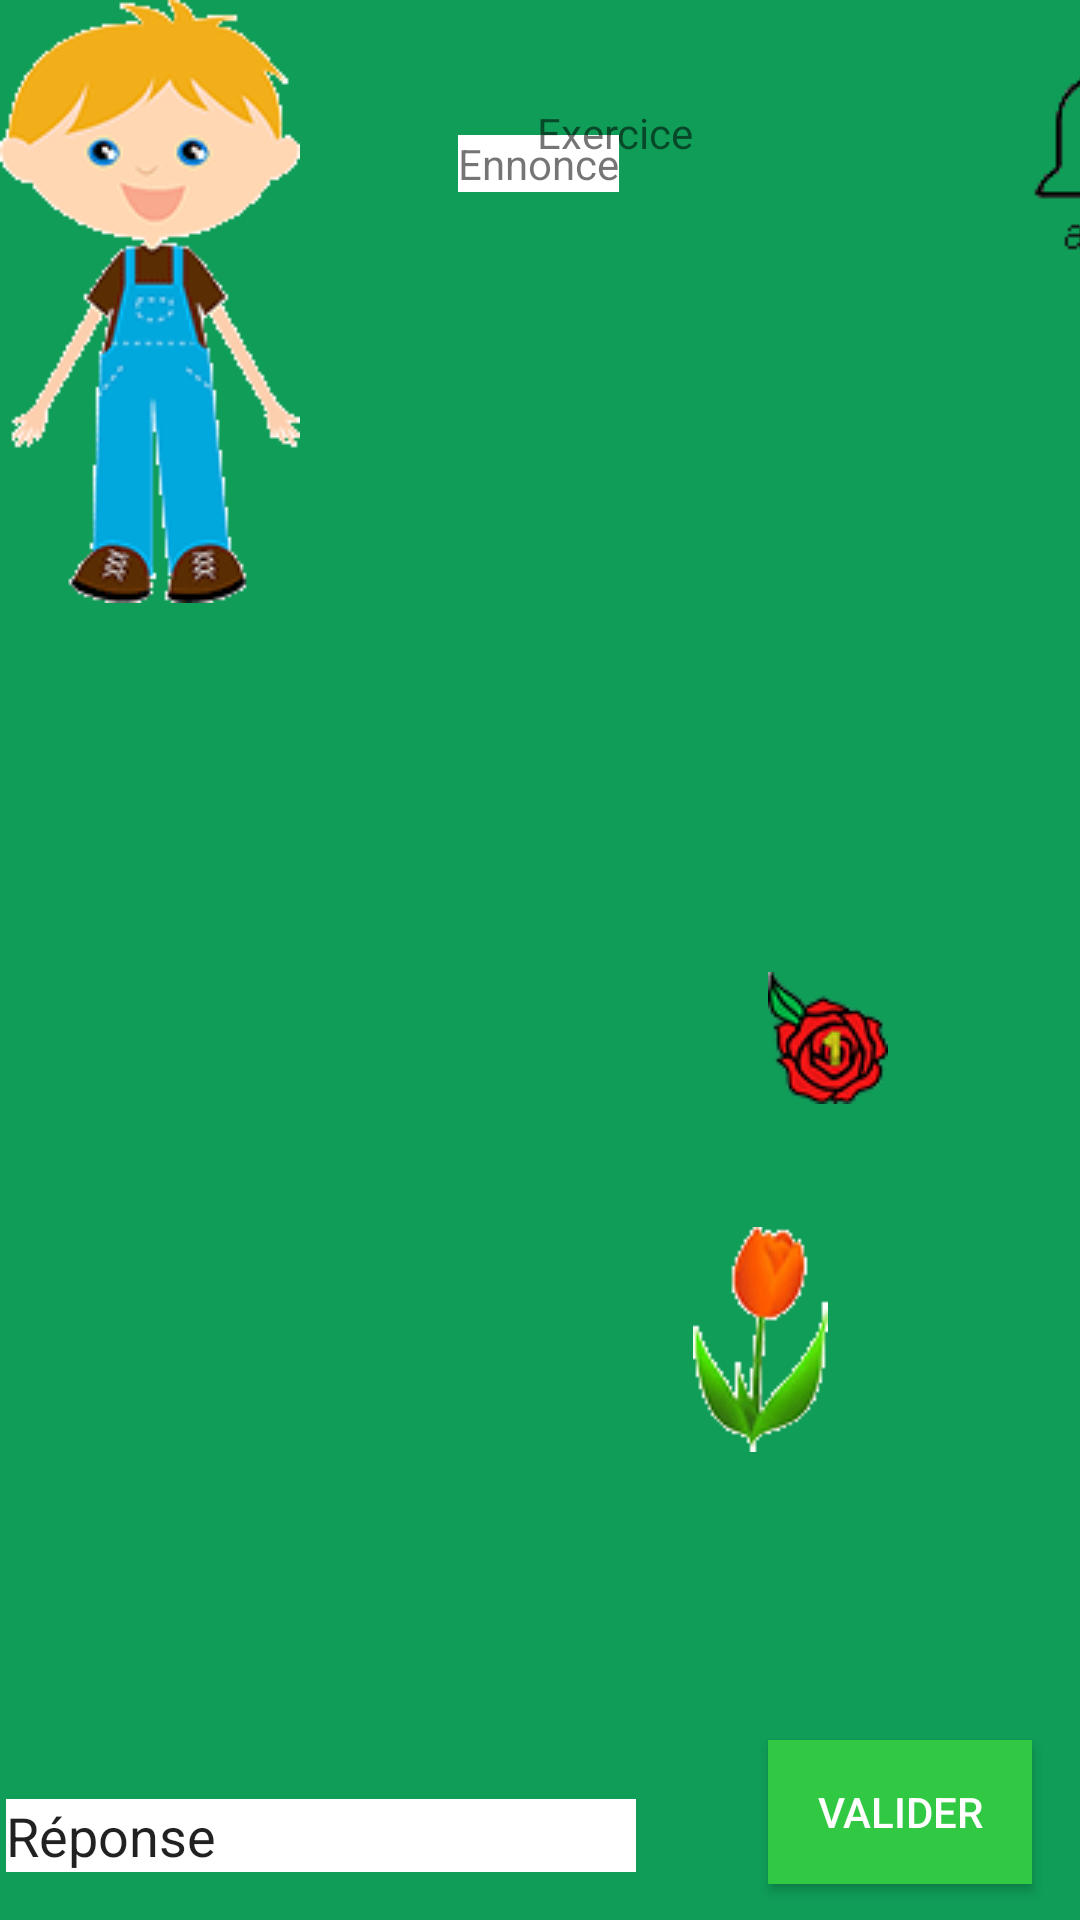

Icons on this 1080 x 1920 Android screen, each with the point to tap as [x,y]:
rose: [828,1038]
tulipe: [760,1339]
